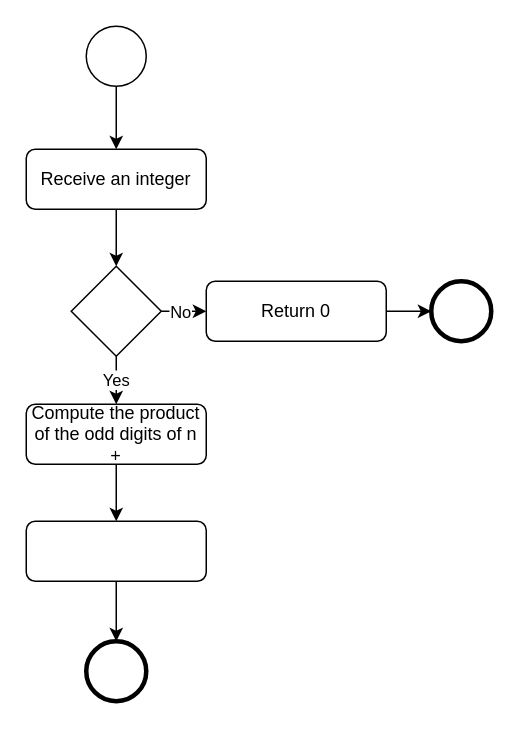
Some shapes in this 519 by 729 pixel diagram are drawn without their labels. The shapes that lost their labels are listed below. From the top down, each one's centre as x and y in pixels, then its label:
[115,310]: Odd digits in n?
[115,550]: Return the product
